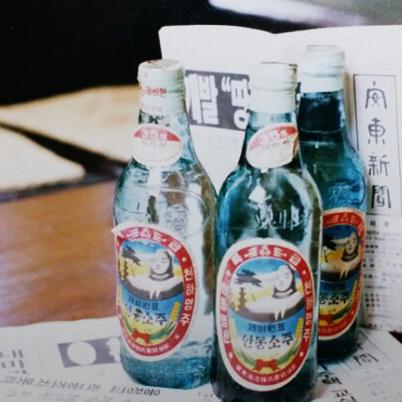soju: (108, 46, 363, 402)
